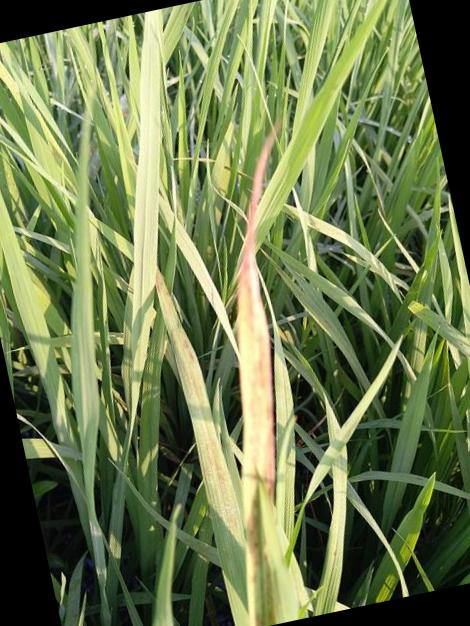Leaf Blight: (232, 130, 299, 626)
Leaf Streak: (157, 270, 213, 424), (206, 424, 243, 535)
